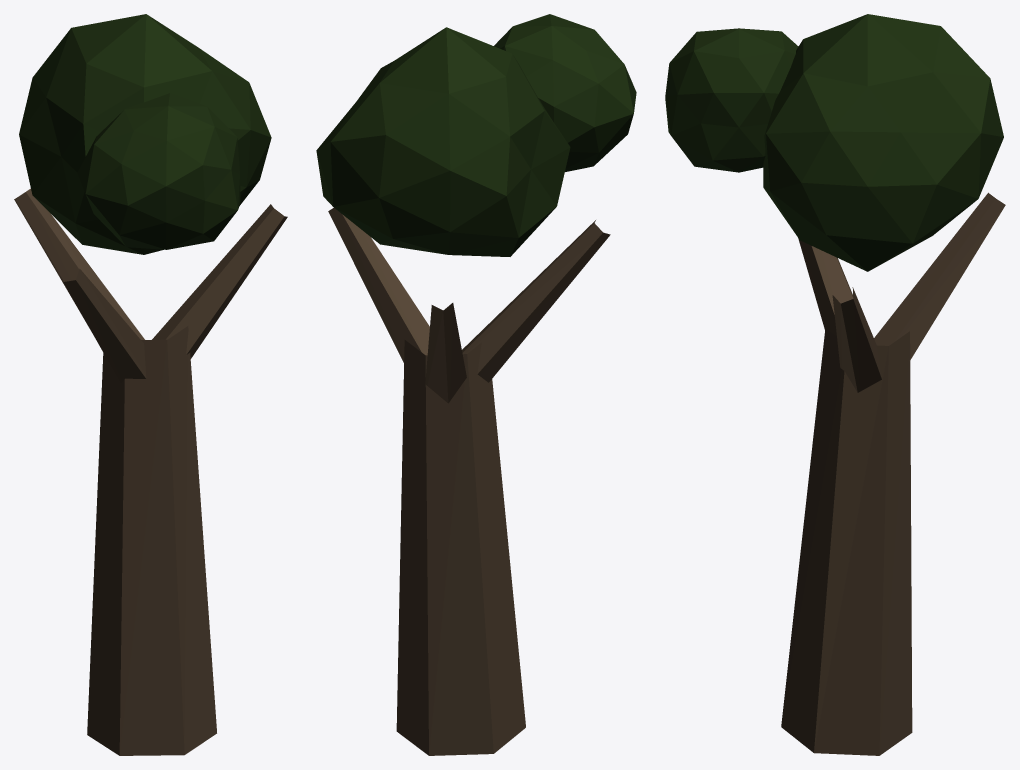
Rendered from 1984-Low-poly-plant-models-oak.glb.
3 renders of one model, left to right at view 1: azimuth 30°, elevation 25°; view 2: azimuth 150°, elevation 25°; view 3: azimuth 270°, elevation 25°, orthographic.
Visible parts, largest first — view 1: Low-poly plant models/oak; view 2: Low-poly plant models/oak; view 3: Low-poly plant models/oak.
Part boxes in pixels (bbox=[...]): Low-poly plant models/oak: bbox=[14, 14, 287, 755]; Low-poly plant models/oak: bbox=[316, 14, 636, 755]; Low-poly plant models/oak: bbox=[665, 14, 1005, 755].
Bounding box in the file's own units: 0.2532 × 0.6839 × 0.2928.
